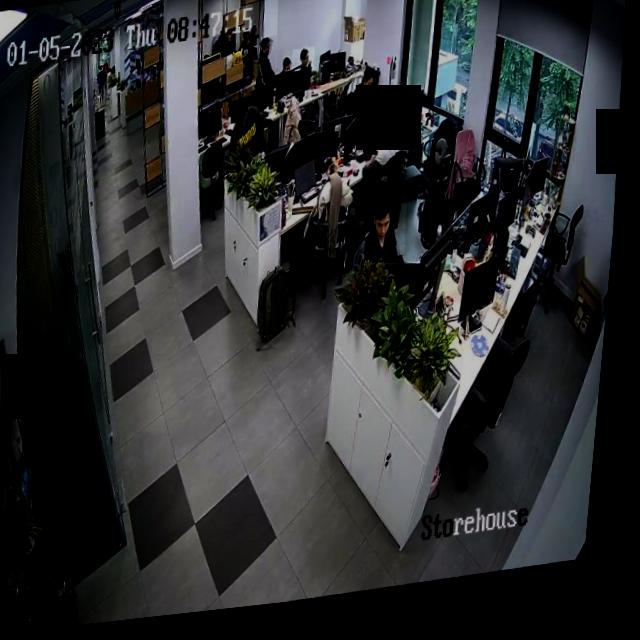person: (362, 120, 413, 198), (368, 203, 414, 269), (345, 70, 383, 124), (256, 41, 279, 98), (291, 53, 318, 99)
